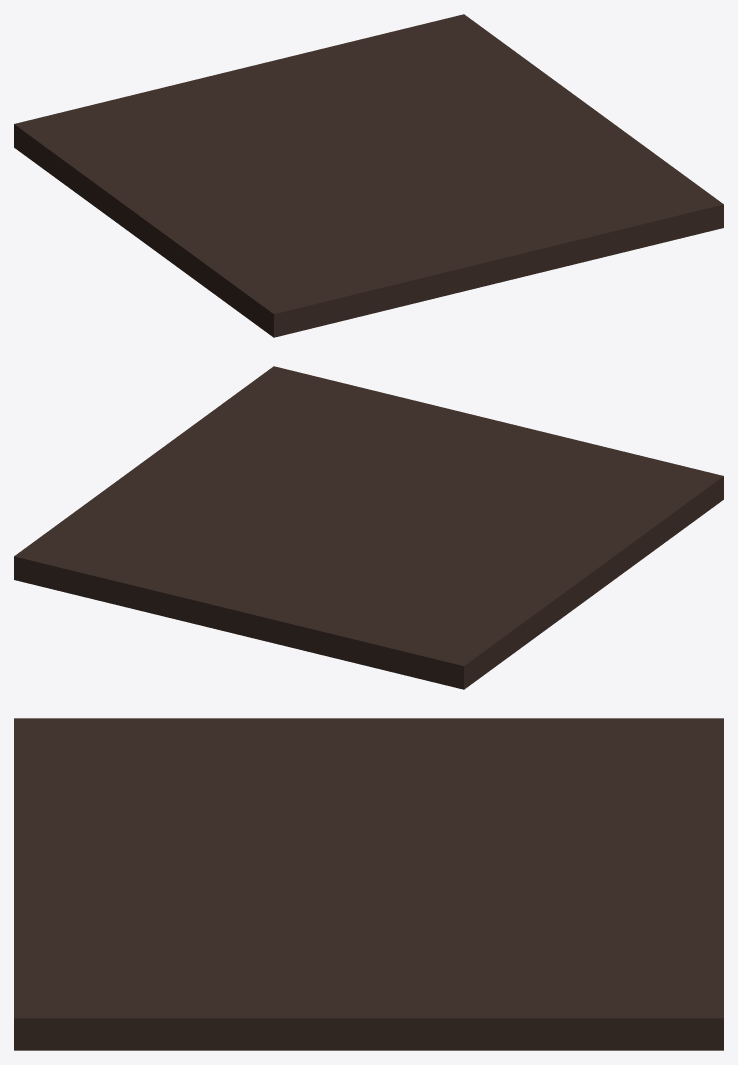
Rendered from Tile_Mud_Simple.fbx.
3 views of the same model, one above another, from view 1: azimuth 30°, elevation 25°; view 2: azimuth 150°, elevation 25°; view 3: azimuth 270°, elevation 25° (orthographic). The views are drawn at different scales.
Parts seen in each view (by area): view 1: Tile_Mud_Simple; view 2: Tile_Mud_Simple; view 3: Tile_Mud_Simple.
Boxes of the visible parts, x1,y1,x2,y2 form: Tile_Mud_Simple: [14, 14, 723, 337]; Tile_Mud_Simple: [14, 366, 723, 689]; Tile_Mud_Simple: [14, 718, 723, 1050].
Bounding box in the file's own units: 100 × 5 × 100.
